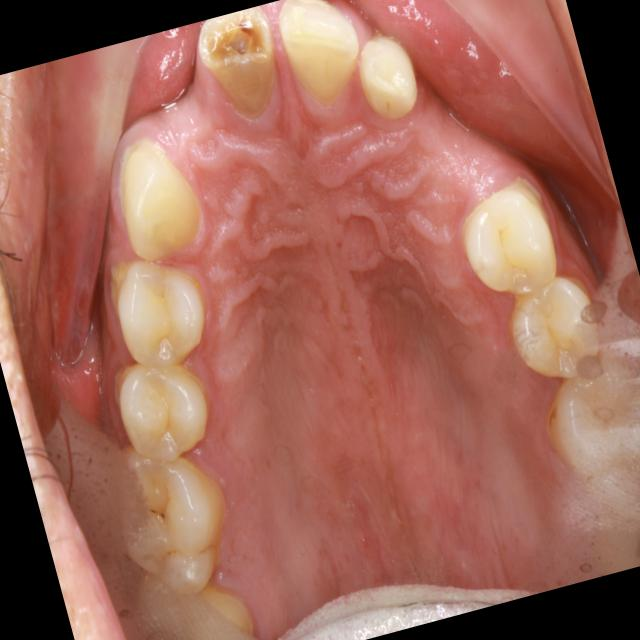tooth: (83, 410, 251, 621), (95, 122, 220, 281), (94, 235, 227, 381), (440, 163, 569, 308), (527, 343, 640, 507), (97, 337, 226, 475), (495, 262, 624, 394), (185, 2, 302, 135), (112, 547, 269, 640), (265, 0, 376, 117), (346, 22, 431, 131)
